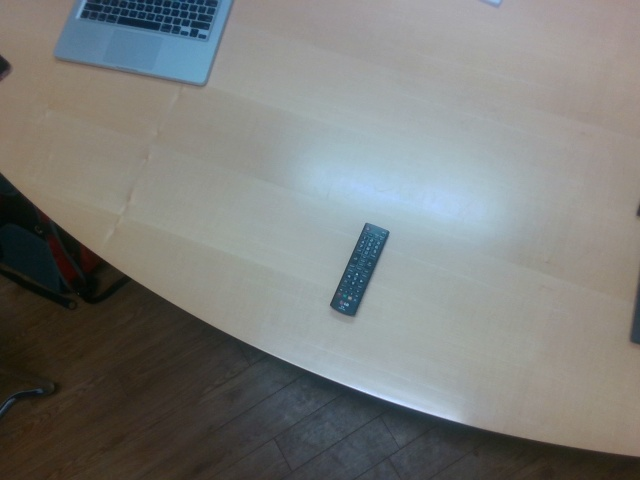remote: (330, 223, 391, 318)
